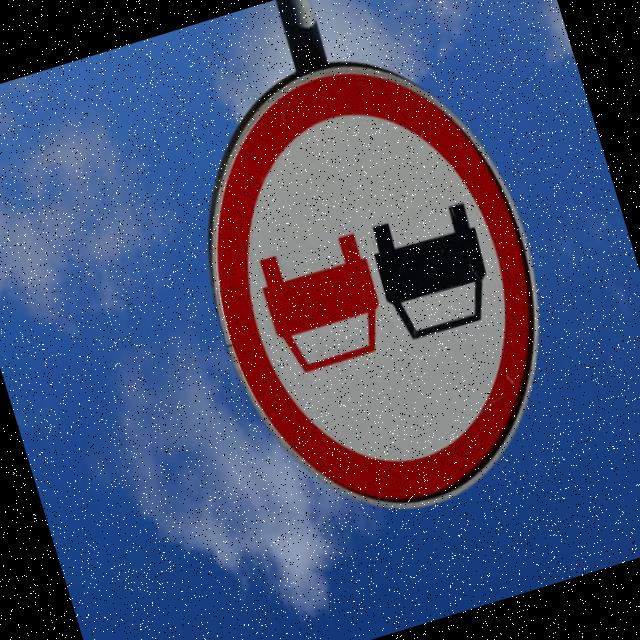no_passing: (147, 11, 602, 560)
